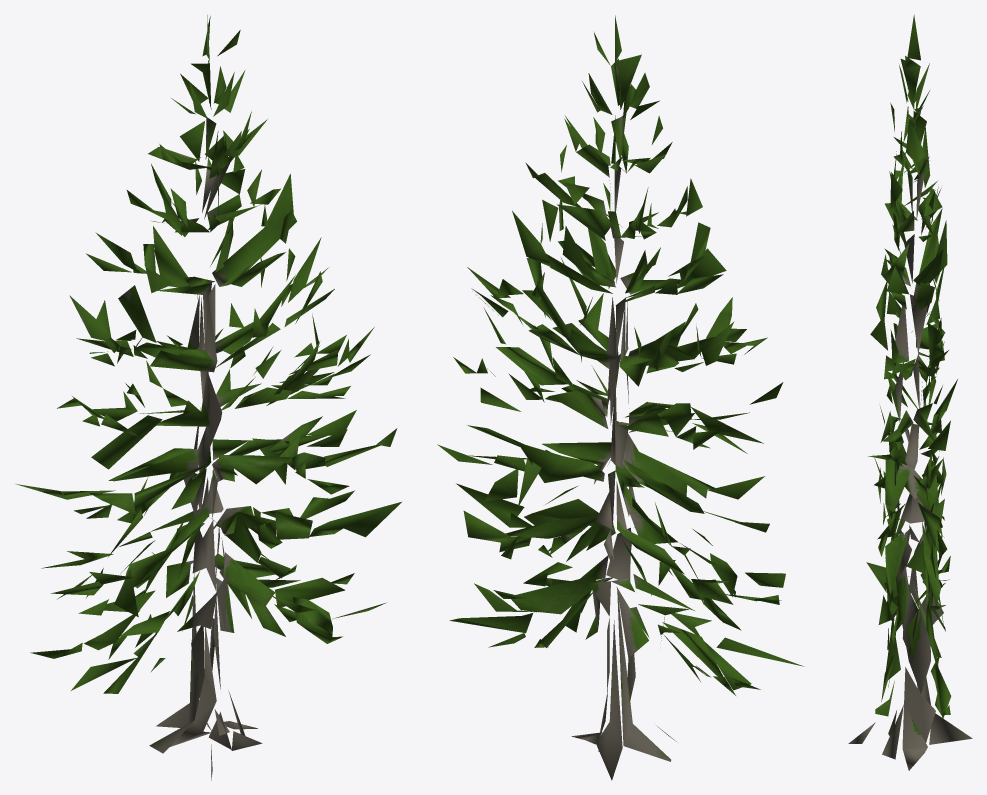
Rendered from araucaria_joven.glb.
3 views of the same model, side by side, from view 1: azimuth 30°, elevation 25°; view 2: azimuth 150°, elevation 25°; view 3: azimuth 270°, elevation 25° (orthographic).
Parts seen in each view (by area): view 1: tripo_node_de98e60d-658c-4fe1-ae2c-657b110a825c; view 2: tripo_node_de98e60d-658c-4fe1-ae2c-657b110a825c; view 3: tripo_node_de98e60d-658c-4fe1-ae2c-657b110a825c.
Boxes of the visible parts, x1,y1,x2,y2 form: tripo_node_de98e60d-658c-4fe1-ae2c-657b110a825c: (15,15,401,780); tripo_node_de98e60d-658c-4fe1-ae2c-657b110a825c: (437,15,803,780); tripo_node_de98e60d-658c-4fe1-ae2c-657b110a825c: (848,14,972,770).
Bounding box in the file's own units: 0.4999 × 0.9888 × 0.1504.
Materials: 1 (1 with a texture image).
